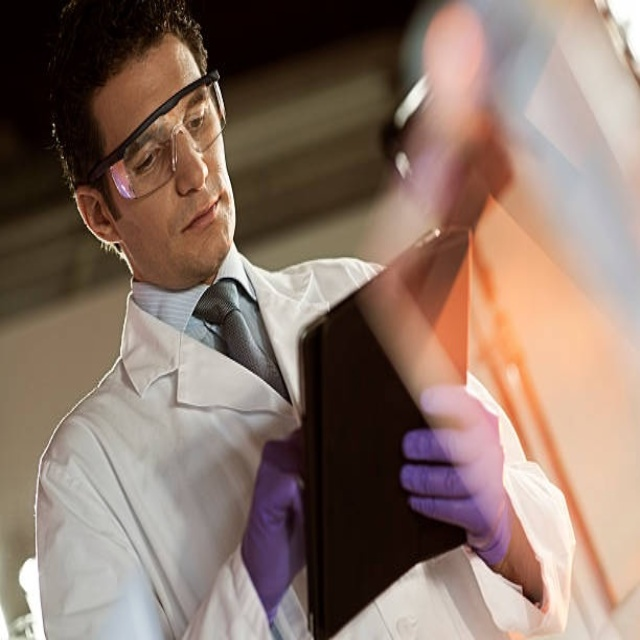Gafas: (88, 75, 225, 212)
Guantes: (399, 381, 512, 573), (242, 427, 310, 628)
Sin_mascara: (173, 182, 233, 260)
